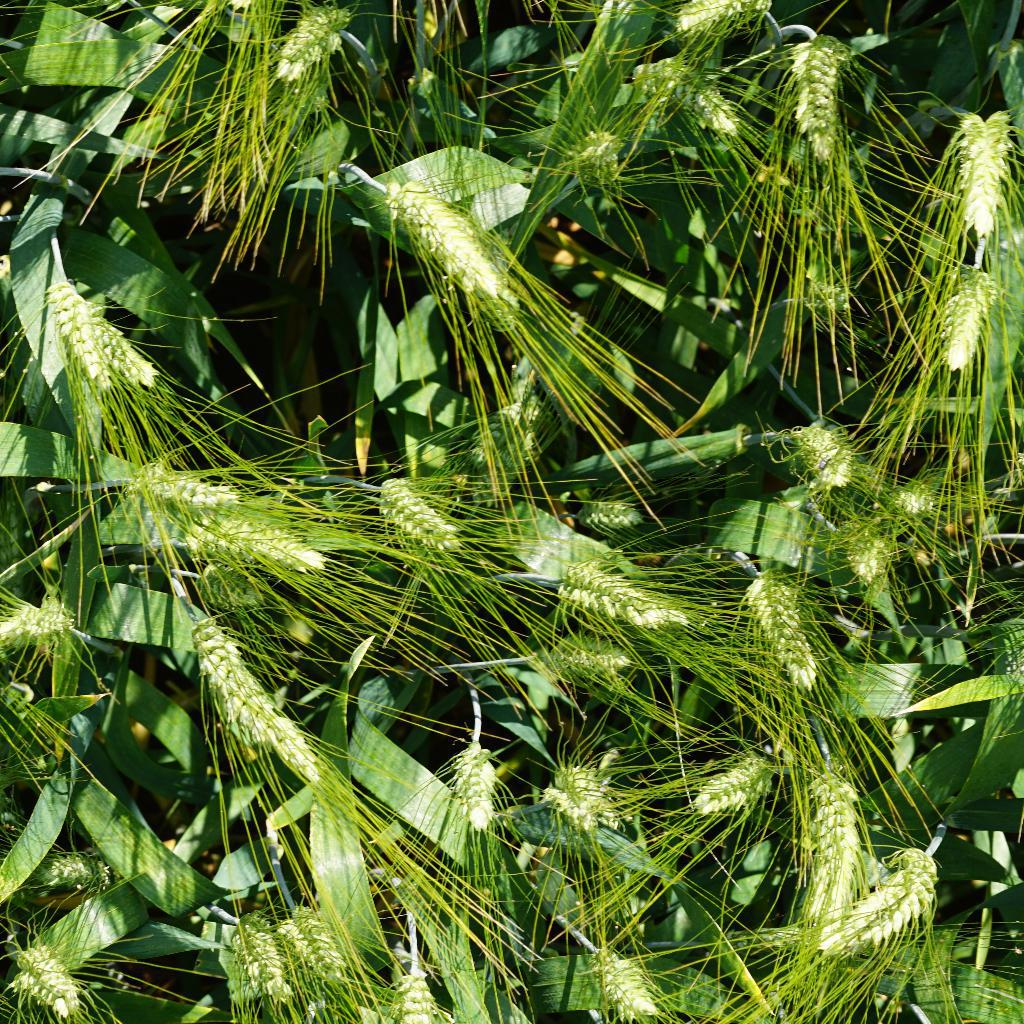0-0: (180, 619, 328, 778), (379, 169, 531, 317), (804, 843, 945, 954), (167, 489, 331, 578), (798, 765, 874, 941), (944, 97, 1020, 257), (774, 27, 859, 169), (739, 567, 836, 691), (631, 50, 742, 141), (556, 563, 699, 631), (924, 262, 1006, 379), (41, 280, 119, 402), (366, 468, 473, 556), (6, 939, 104, 1023), (280, 891, 360, 985), (474, 380, 548, 475), (123, 451, 242, 509), (585, 946, 671, 1024), (550, 765, 634, 843), (270, 4, 351, 84), (444, 742, 515, 832), (778, 415, 862, 489), (96, 307, 167, 392), (557, 115, 630, 193), (220, 919, 291, 998), (687, 757, 787, 813), (39, 843, 125, 904), (1, 592, 80, 658), (539, 635, 634, 688), (675, 0, 778, 43), (843, 519, 896, 594), (897, 475, 950, 538), (582, 488, 649, 537), (798, 273, 852, 330), (396, 967, 447, 1024)
